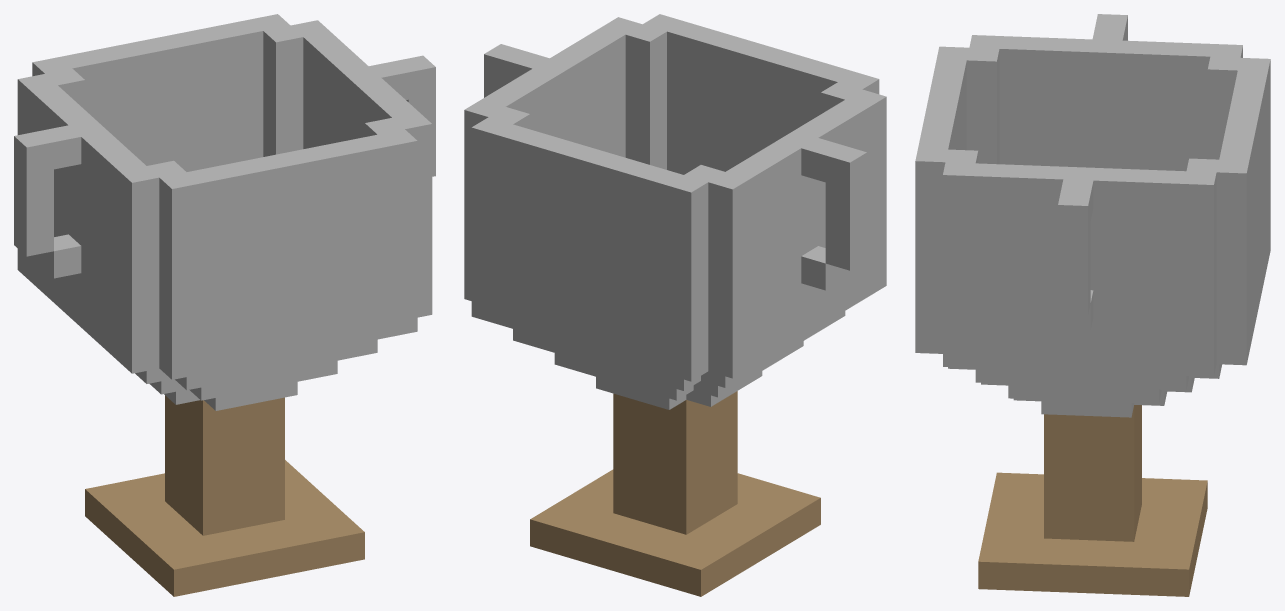
The model's file is achievement_trophy.glb.
The picture shows the model from 3 angles, left to right: view 1: azimuth 30°, elevation 25°; view 2: azimuth 150°, elevation 25°; view 3: azimuth 270°, elevation 25°; orthographic projection.
Parts seen in each view (by area): view 1: Geode; view 2: Geode; view 3: Geode.
Boxes of the visible parts, bbox=[...] form: Geode: bbox=[14, 14, 435, 596]; Geode: bbox=[464, 14, 886, 596]; Geode: bbox=[915, 14, 1270, 596].
Bounding box in the file's own units: 0.6508 × 0.6928 × 0.5086.
